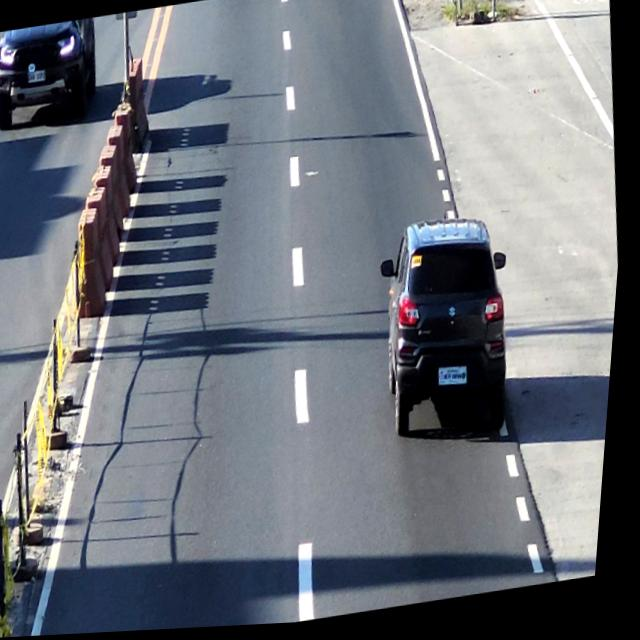Car: (373, 217, 525, 447)
License-Plate: (440, 367, 479, 399)
